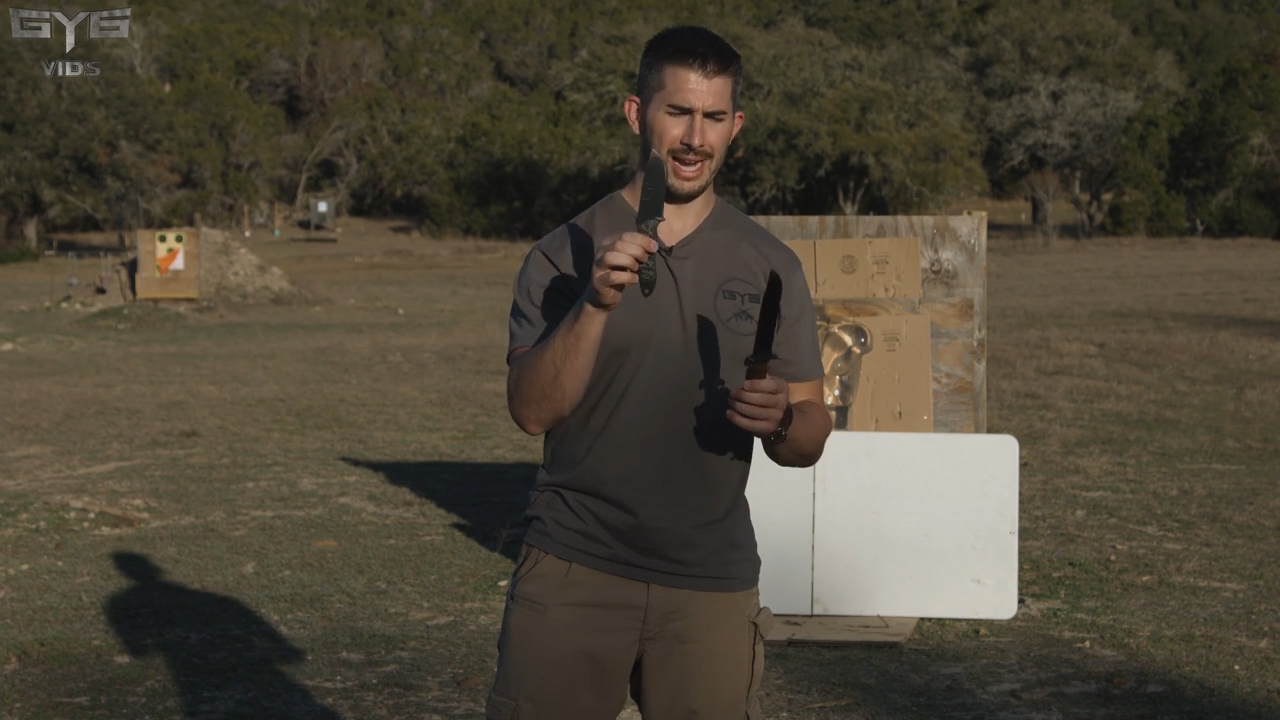knife: (605, 136, 681, 306), (730, 261, 790, 431)
